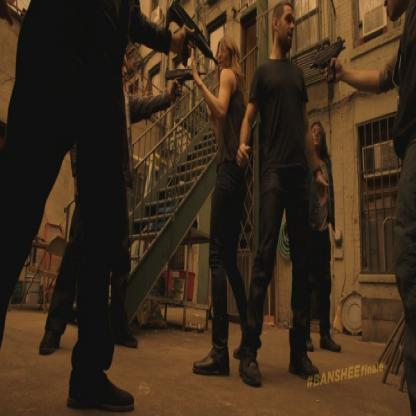Guns: (166, 0, 218, 65), (308, 34, 347, 82), (162, 65, 200, 100)
